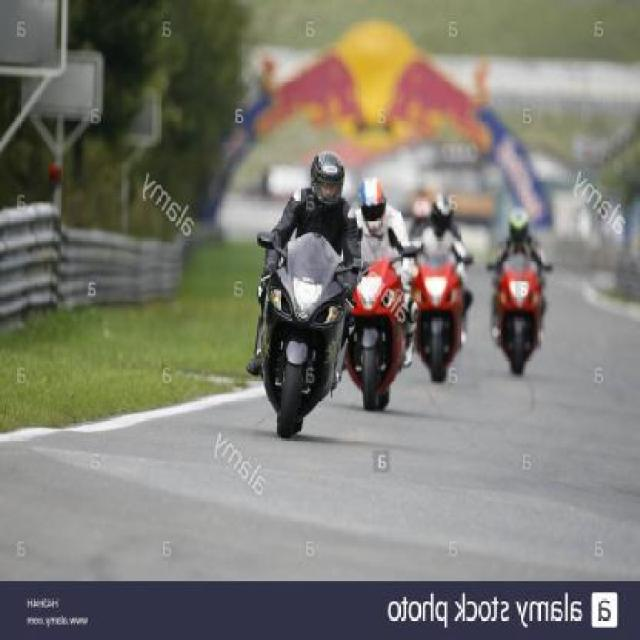helmet: (290, 153, 360, 212), (418, 192, 481, 243), (353, 178, 400, 236), (506, 200, 536, 251)
motorcycle: (244, 146, 366, 442), (340, 176, 418, 416), (487, 196, 572, 389), (408, 188, 486, 392)
